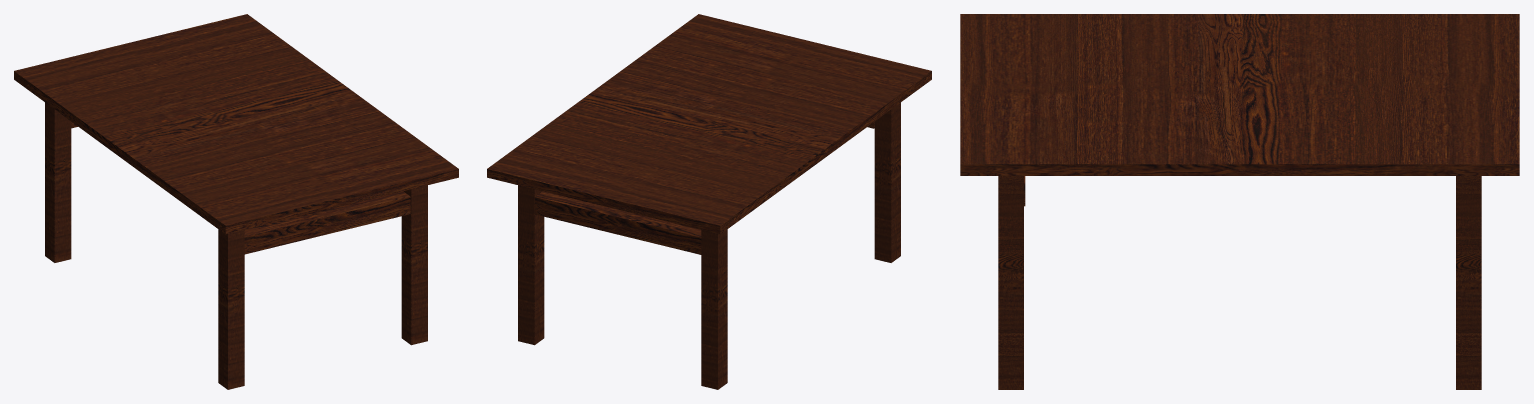
The model's file is Mesa-Peque.fbx.
3 views of the same model, side by side, from view 1: azimuth 30°, elevation 25°; view 2: azimuth 150°, elevation 25°; view 3: azimuth 270°, elevation 25° (orthographic). The views are drawn at different scales.
Visible parts, largest first — view 1: Platte, Bein_3, Stütze; view 2: Platte, Bein_3, Stütze; view 3: Platte, Bein_3.
Boxes of the visible parts, x1,y1,x2,y2 form: Platte: (14,14,458,234); Bein_3: (45,102,427,389); Stütze: (71,122,410,254); Platte: (487,14,931,234); Bein_3: (518,102,900,389); Stütze: (535,122,874,254); Platte: (960,14,1519,175); Bein_3: (998,176,1481,389).
Size of the model in its own units: 140 by 103 by 220.
